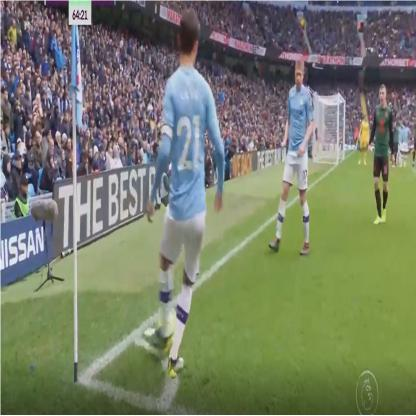corner kick: (60, 25, 233, 397)
